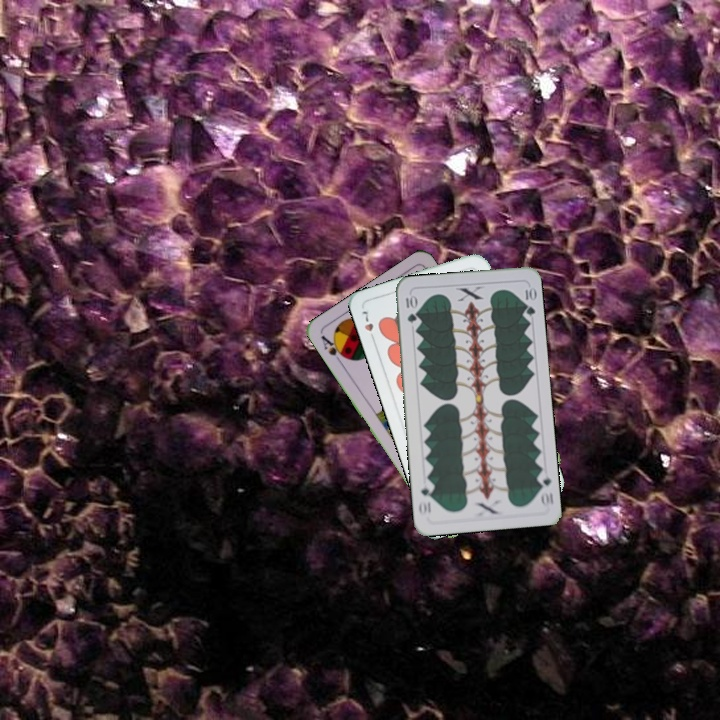G10: (534, 468, 556, 509), (402, 291, 419, 325)
H7: (357, 305, 378, 344)
SA: (317, 331, 350, 367)
